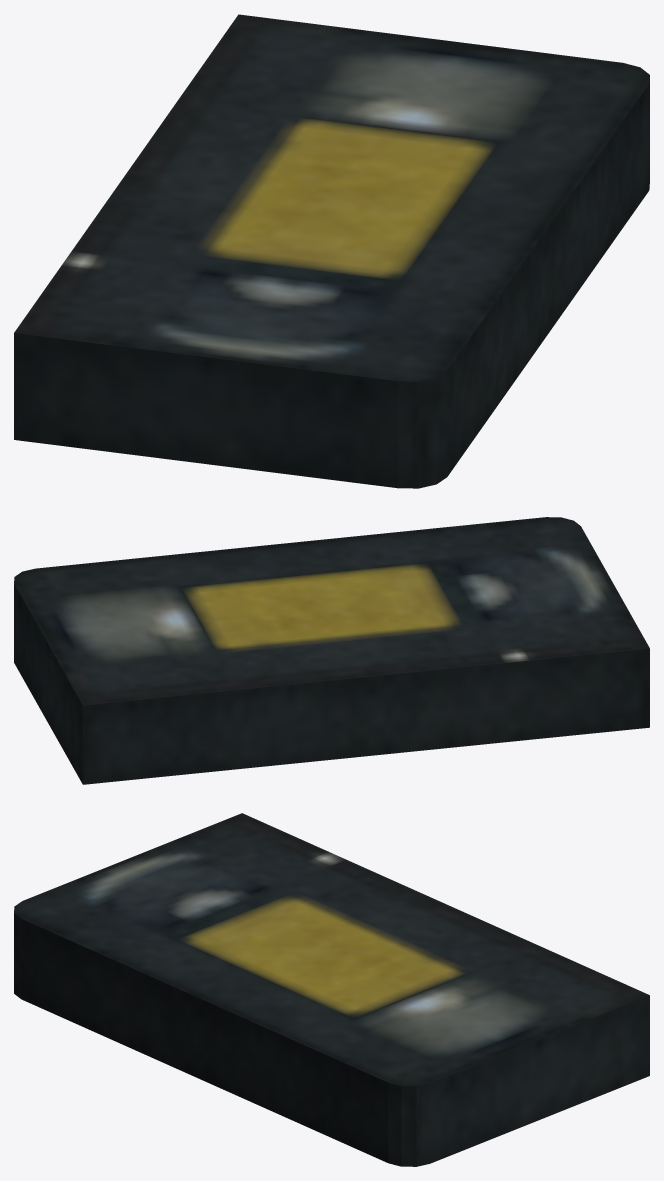
The picture shows the model from 3 angles, top to bottom: view 1: azimuth 30°, elevation 25°; view 2: azimuth 150°, elevation 25°; view 3: azimuth 270°, elevation 25°; orthographic projection. The views are drawn at different scales.
Visible parts, largest first — view 1: vhs_tape_1; view 2: vhs_tape_1; view 3: vhs_tape_1.
Part boxes in pixels (x1,y1,x2,y2): vhs_tape_1: (14, 14, 649, 488); vhs_tape_1: (14, 517, 649, 784); vhs_tape_1: (14, 813, 649, 1166).
Size of the model in its own units: 0.3268 by 0.045 by 0.3216.
Materials: 1 (1 with a texture image).
